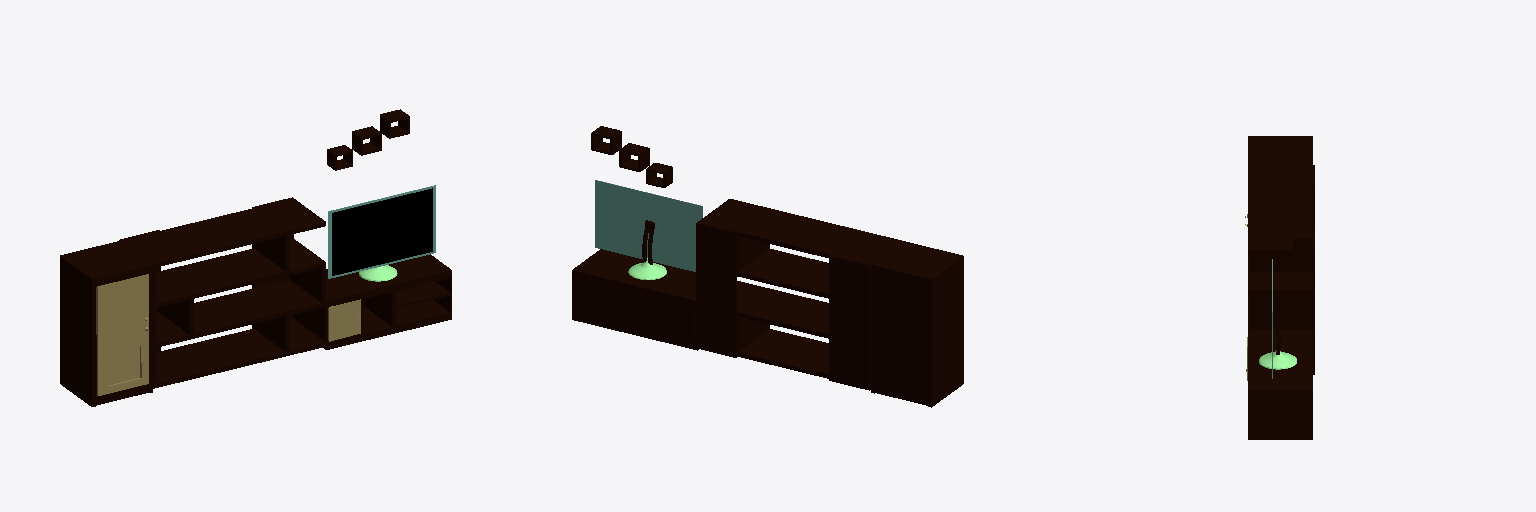
Rendered from newuntitled.obj.
3 views of the same model, side by side, from view 1: azimuth 30°, elevation 25°; view 2: azimuth 150°, elevation 25°; view 3: azimuth 270°, elevation 25° (orthographic).
Parts seen in each view (by area): view 1: tablon_estante_superior, pantalla, pomo_armario_grande, pomo_armario_peque_o, soporte_pantalla, sup_caja_med002, sup_caja_grande003, sup_caja_peqe001; view 2: tablon_estante_superior, soporte_pantalla, sup_caja_grande003, sup_caja_med002, sup_caja_peqe001, base_televisor; view 3: tablon_estante_superior, sup_caja_grande003.
Boxes of the visible parts, box(x1,y1,x2,y2) form: tablon_estante_superior: box(60, 197, 451, 406); pantalla: box(332, 188, 432, 275); pomo_armario_grande: box(96, 274, 148, 395); pomo_armario_peque_o: box(328, 299, 360, 341); soporte_pantalla: box(328, 185, 435, 278); sup_caja_med002: box(352, 126, 381, 155); sup_caja_grande003: box(380, 109, 409, 138); sup_caja_peqe001: box(327, 145, 352, 170); tablon_estante_superior: box(572, 199, 963, 407); soporte_pantalla: box(595, 180, 702, 271); sup_caja_grande003: box(591, 126, 621, 154); sup_caja_med002: box(619, 143, 649, 171); sup_caja_peqe001: box(646, 163, 672, 187); base_televisor: box(628, 258, 666, 279); tablon_estante_superior: box(1248, 136, 1314, 439); sup_caja_grande003: box(1293, 228, 1311, 255).
Size of the model in its own units: 528 by 269 by 89.84.